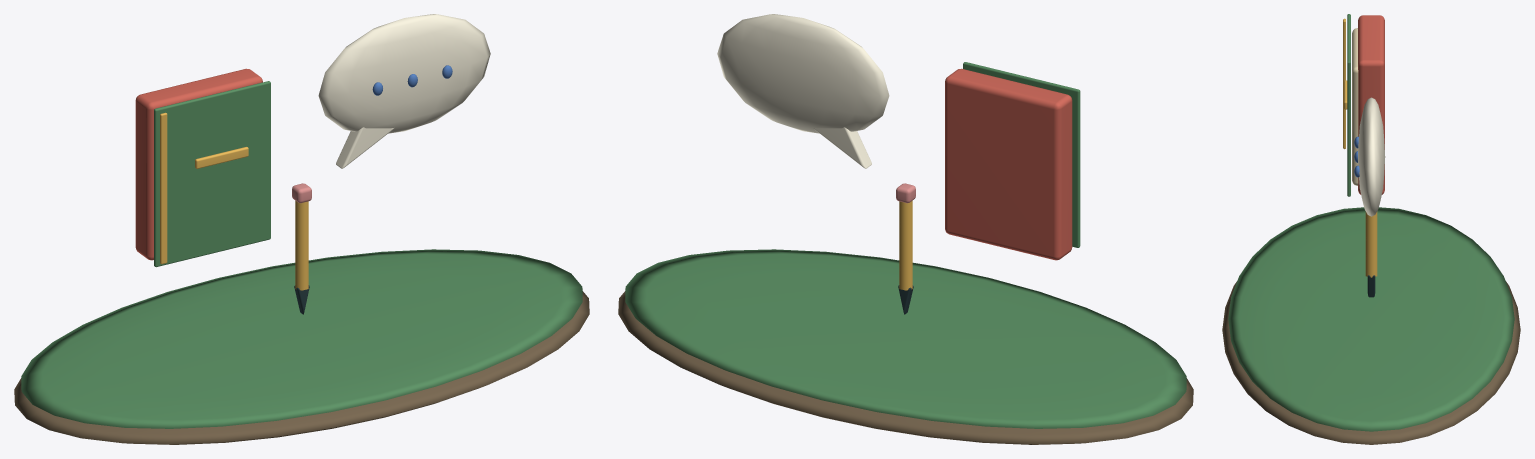
File: complete-second-memory-narrator.glb
3 views of the same model, side by side, from view 1: azimuth 30°, elevation 25°; view 2: azimuth 150°, elevation 25°; view 3: azimuth 270°, elevation 25° (orthographic). The views are drawn at different scales.
Parts seen in each view (by area): view 1: complete-second-memory-narrator_surface_01, complete-second-memory-narrator_surface_05, complete-second-memory-narrator_surface_00, complete-second-memory-narrator_surface_02, complete-second-memory-narrator_surface_04; view 2: complete-second-memory-narrator_surface_01, complete-second-memory-narrator_surface_02, complete-second-memory-narrator_surface_05, complete-second-memory-narrator_surface_00, complete-second-memory-narrator_surface_04; view 3: complete-second-memory-narrator_surface_01, complete-second-memory-narrator_surface_00, complete-second-memory-narrator_surface_02, complete-second-memory-narrator_surface_05, complete-second-memory-narrator_surface_04, complete-second-memory-narrator_surface_03.
Boxes of the visible parts, x1,y1,x2,y2 form: complete-second-memory-narrator_surface_01: (21,81,582,428); complete-second-memory-narrator_surface_05: (318,14,490,168); complete-second-memory-narrator_surface_00: (14,291,589,444); complete-second-memory-narrator_surface_02: (135,68,262,260); complete-second-memory-narrator_surface_04: (160,112,308,290); complete-second-memory-narrator_surface_01: (625,62,1186,428); complete-second-memory-narrator_surface_02: (945,68,1072,260); complete-second-memory-narrator_surface_05: (717,14,889,168); complete-second-memory-narrator_surface_00: (618,291,1193,444); complete-second-memory-narrator_surface_04: (899,200,912,290); complete-second-memory-narrator_surface_01: (1228,14,1514,431); complete-second-memory-narrator_surface_00: (1222,281,1520,444); complete-second-memory-narrator_surface_02: (1358,15,1384,194); complete-second-memory-narrator_surface_05: (1358,97,1385,216); complete-second-memory-narrator_surface_04: (1343,18,1377,277); complete-second-memory-narrator_surface_03: (1352,28,1358,185).
Bounding box in the file's own units: 4.56 × 2.57 × 2.5.
